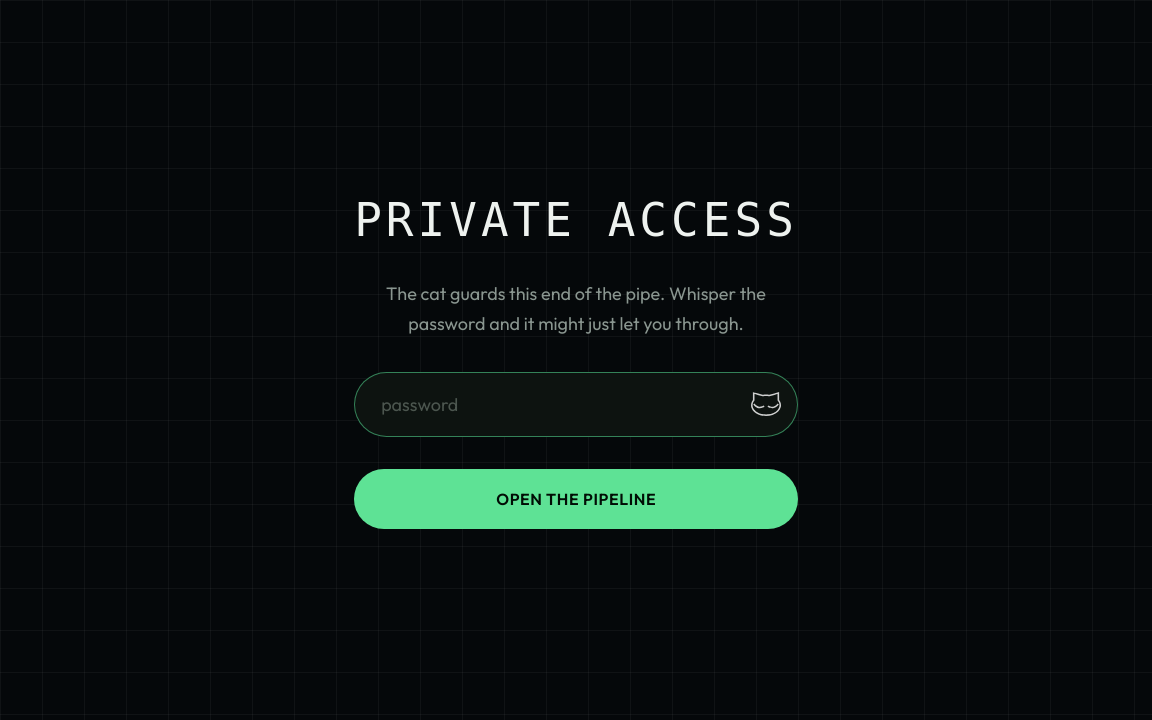
Scenario: LoginPage › shows a network error message when login rejects without an ApiError
Type "nope" into the password field labelled "password" at {"x": 576, "y": 404}, box 354,372 -> 798,437
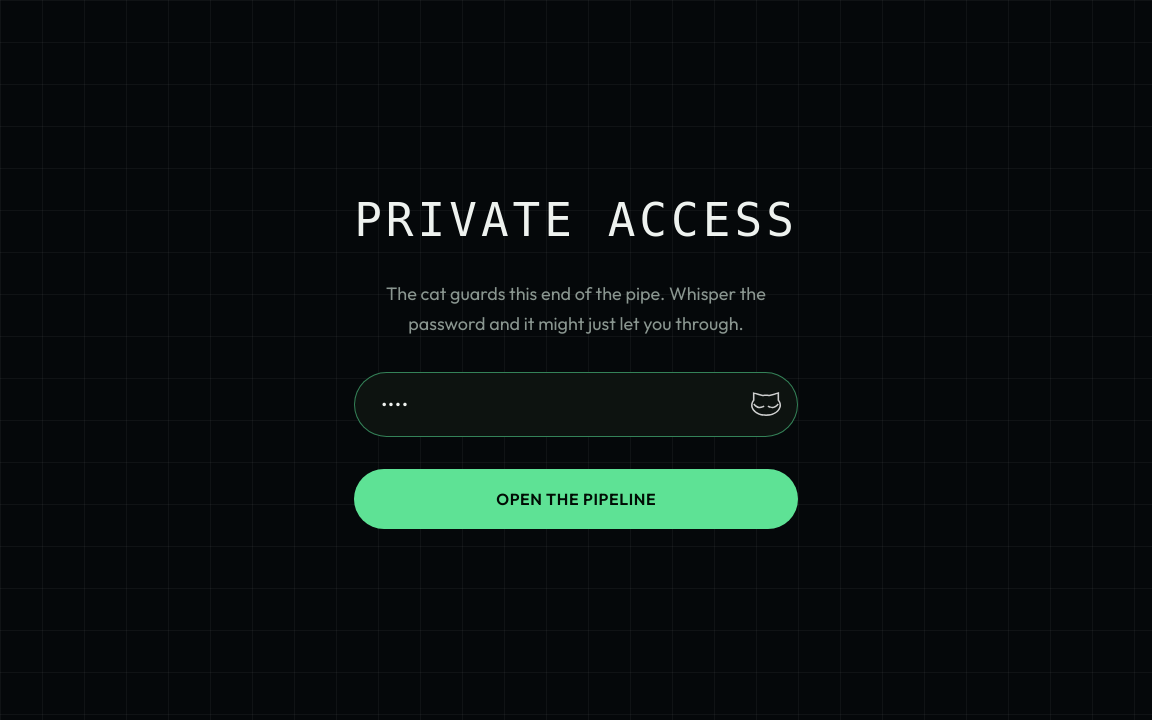
Click the button "OPEN THE PIPELINE" at {"x": 576, "y": 499}, box 354,469 -> 798,529
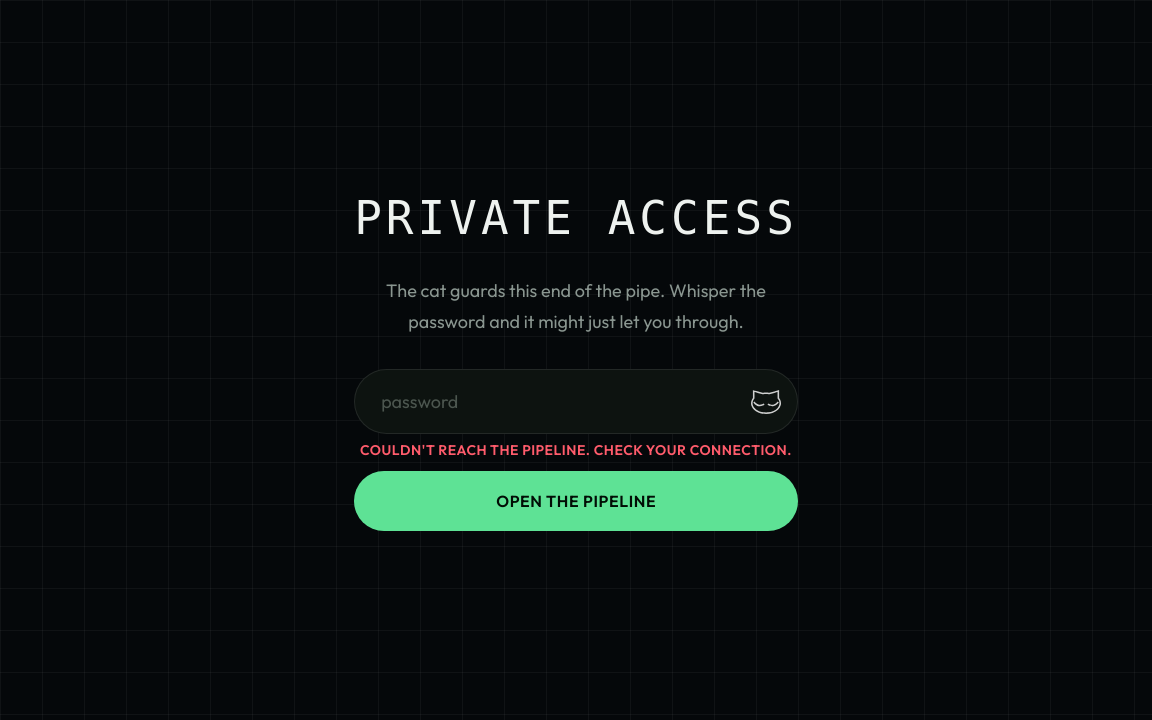
Check: the text "COULDN'T REACH THE PIPELINE. CHECK YOUR CONNECTION." is shown, box 354,440 -> 798,462
